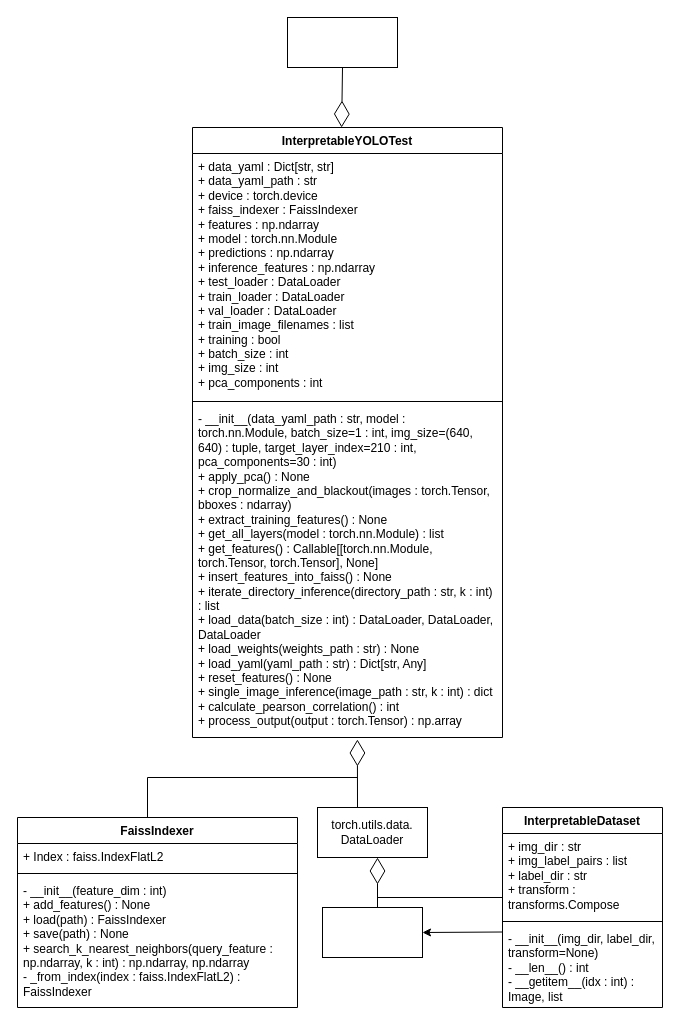
This 680x1028 diagram has some shape labels left out. The box of each missing label's shape, as (x1, y1, x2, y2) in pixels:
torch.nn.Module: (286, 16, 398, 68)
torch.utils.data. Dataset: (322, 906, 422, 958)
